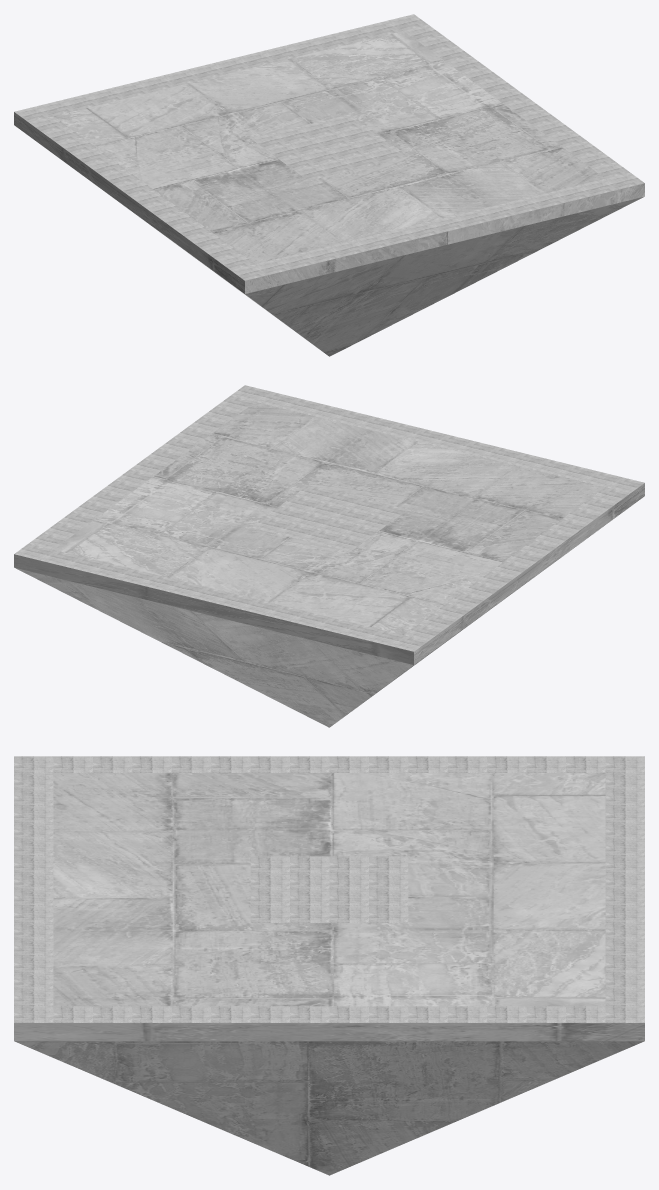
The model's file is floorDebug1.glb.
3 renders of one model, top to bottom at view 1: azimuth 30°, elevation 25°; view 2: azimuth 150°, elevation 25°; view 3: azimuth 270°, elevation 25°, orthographic. The views are drawn at different scales.
Parts seen in each view (by area): view 1: Cone; view 2: Cone; view 3: Cone.
Boxes of the visible parts, x1,y1,x2,y2 form: Cone: (14, 14, 644, 356); Cone: (14, 385, 644, 727); Cone: (14, 756, 644, 1175).
Size of the model in its own units: 24 by 12 by 24.
Materials: 1 (1 with a texture image).
